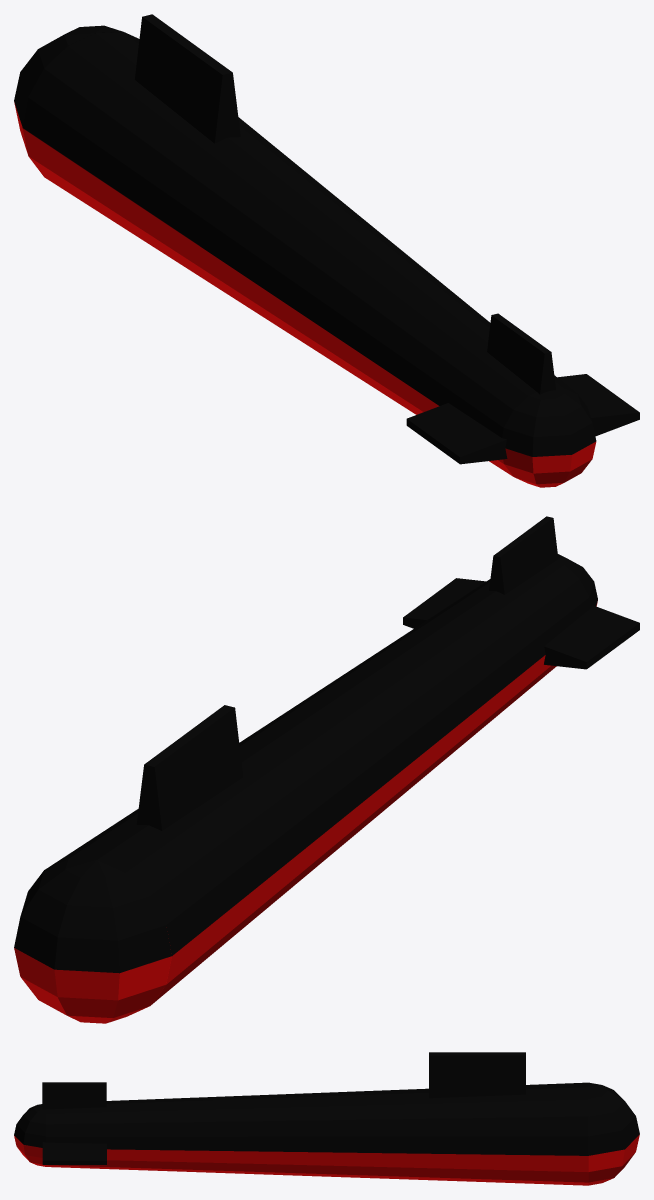
Rendered from Submarine.glb.
The picture shows the model from 3 angles, top to bottom: view 1: azimuth 30°, elevation 25°; view 2: azimuth 150°, elevation 25°; view 3: azimuth 270°, elevation 25°; orthographic projection. The views are drawn at different scales.
Visible parts, largest first — view 1: Sphere, Cube.009, Cube.012, Cube.010, Cube.011; view 2: Sphere, Cube.009, Cube.012, Cube.010, Cube.011; view 3: Sphere, Cube.009, Cube.010, Cube.011.
Part boxes in pixels (<box>): Sphere: <box>14,25,596,487</box>; Cube.009: <box>134,14,240,143</box>; Cube.012: <box>406,403,507,464</box>; Cube.010: <box>487,313,555,394</box>; Cube.011: <box>557,374,639,436</box>; Sphere: <box>14,554,597,1023</box>; Cube.009: <box>136,705,242,830</box>; Cube.012: <box>544,605,639,669</box>; Cube.010: <box>489,516,558,594</box>; Cube.011: <box>403,578,485,628</box>; Sphere: <box>14,1082,639,1185</box>; Cube.009: <box>429,1052,525,1098</box>; Cube.010: <box>42,1082,106,1109</box>; Cube.011: <box>42,1142,106,1164</box>.
Size of the model in its own units: 2.46 by 2.72 by 12.13.
